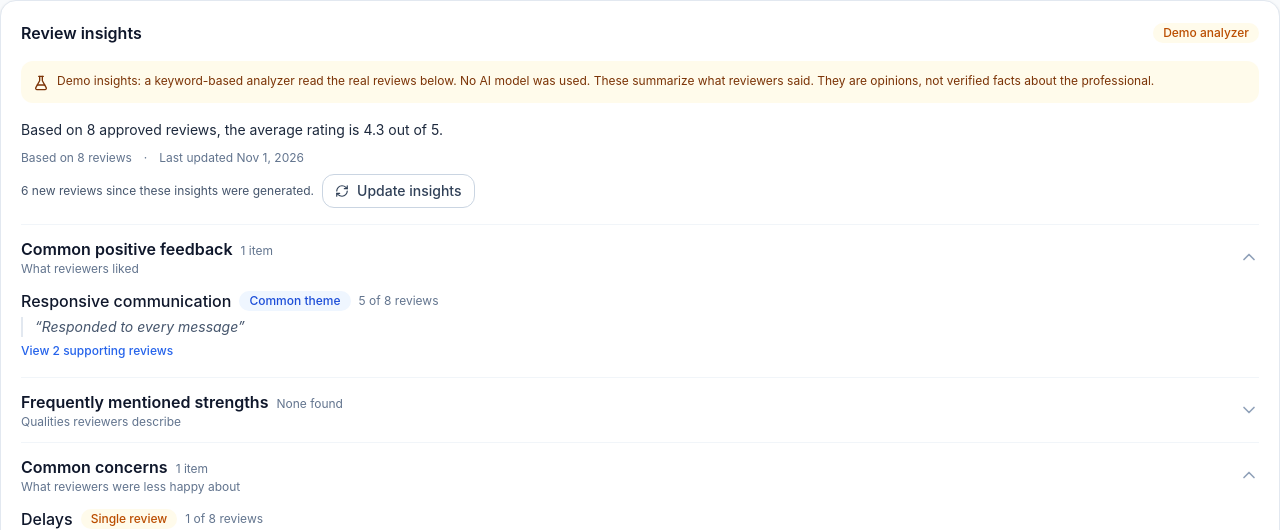
Test: only a signed-in visitor can update stale insights, and only when enough new reviews exist
Expected: the text "6 new reviews since" is shown, [21,174,475,208]
Click the button "Update insights": click(398, 191) [322,174,474,208]
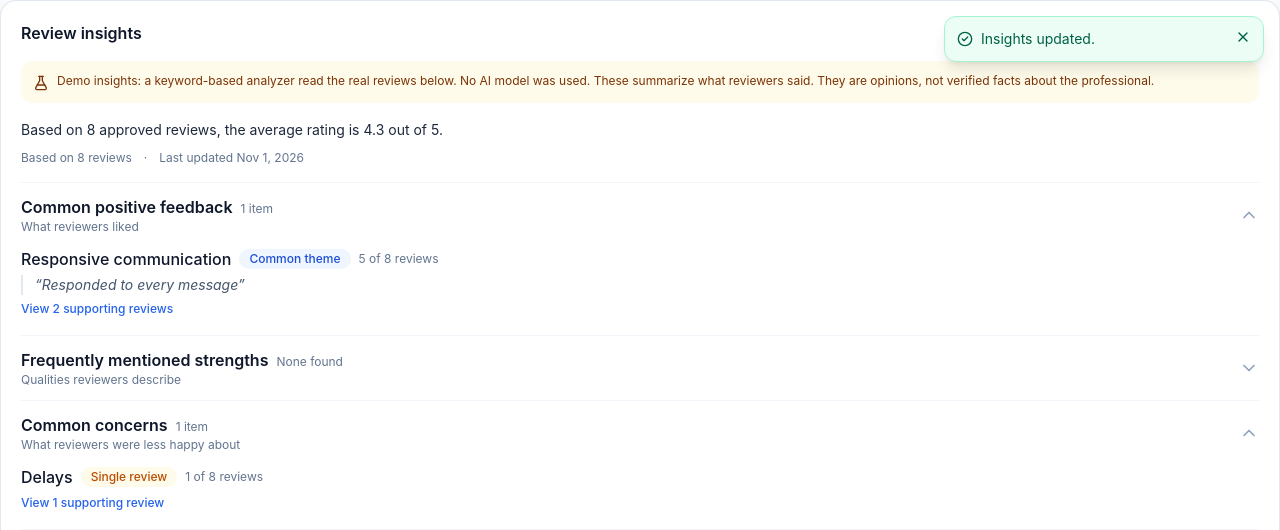
Expected: the text "Insights updated." is shown, [981,30,1095,47]
